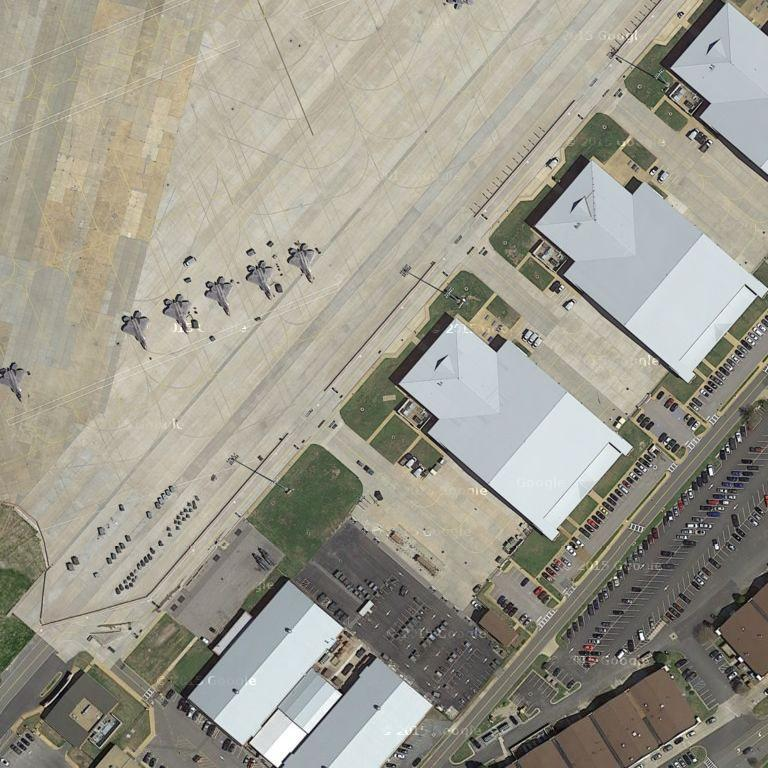F-22: (198, 272, 238, 317), (282, 239, 321, 284), (242, 257, 278, 303), (118, 307, 152, 351), (159, 293, 194, 335), (1, 358, 28, 400)
